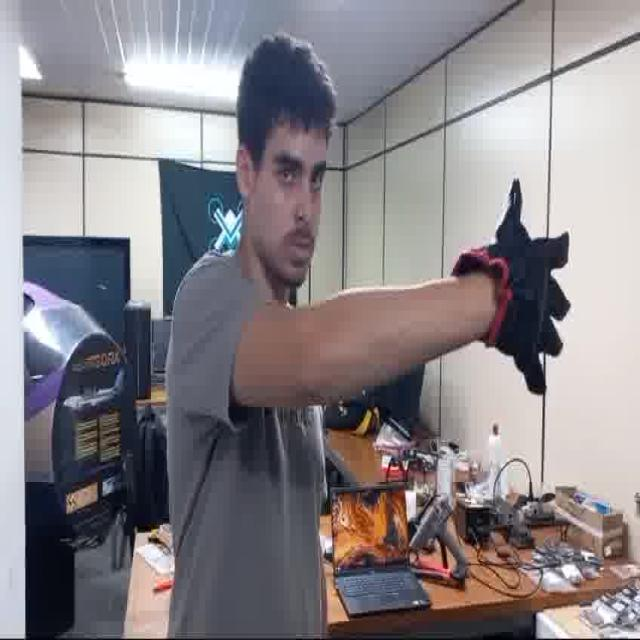Gloves: (474, 182, 570, 392)
